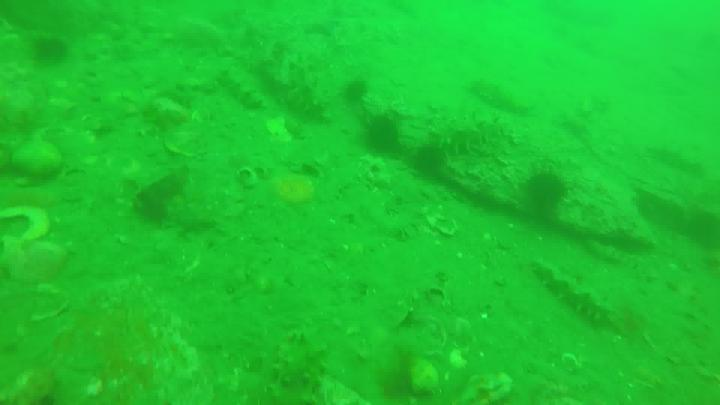echinus: (526, 171, 574, 218), (25, 32, 67, 67), (368, 114, 401, 155), (414, 137, 445, 174), (340, 78, 368, 104)
holothurian: (537, 260, 613, 331), (275, 331, 330, 405), (286, 48, 330, 119), (438, 118, 513, 156), (470, 77, 531, 114), (649, 140, 707, 177), (220, 68, 264, 108)
scallop: (13, 139, 58, 177), (410, 361, 450, 394), (164, 128, 203, 161), (428, 212, 456, 239), (561, 355, 579, 371)
